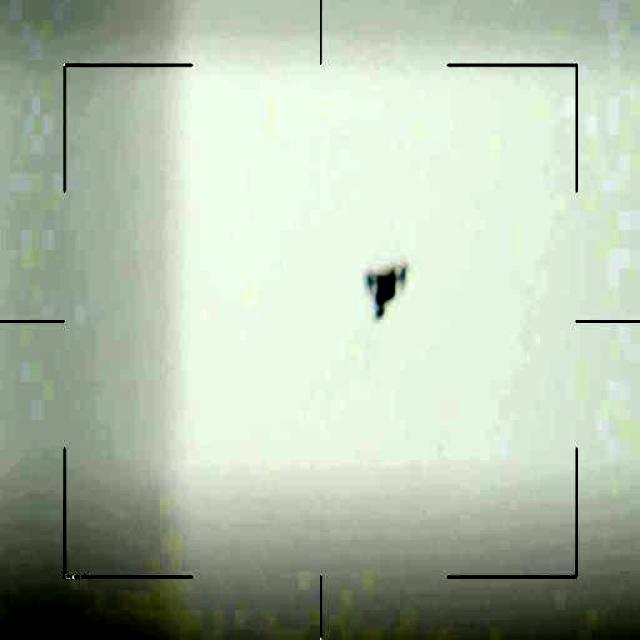bird: (358, 260, 415, 328)
